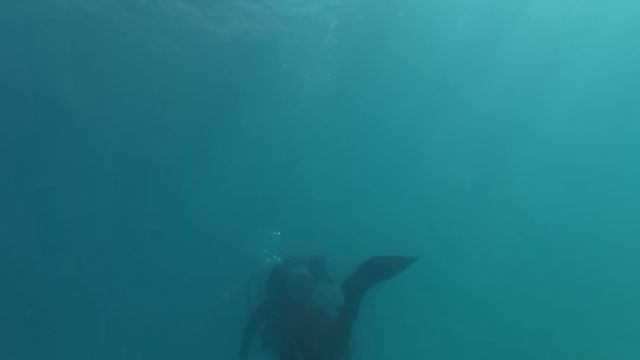Diver: (231, 242, 415, 359)
